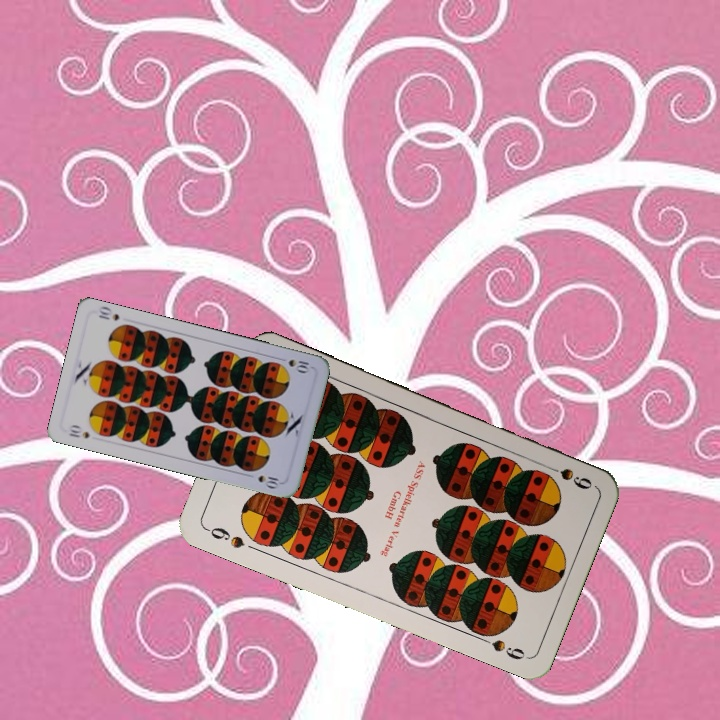S10: (274, 353, 314, 376), (65, 421, 92, 441)
S9: (539, 460, 595, 492), (201, 523, 247, 551)
